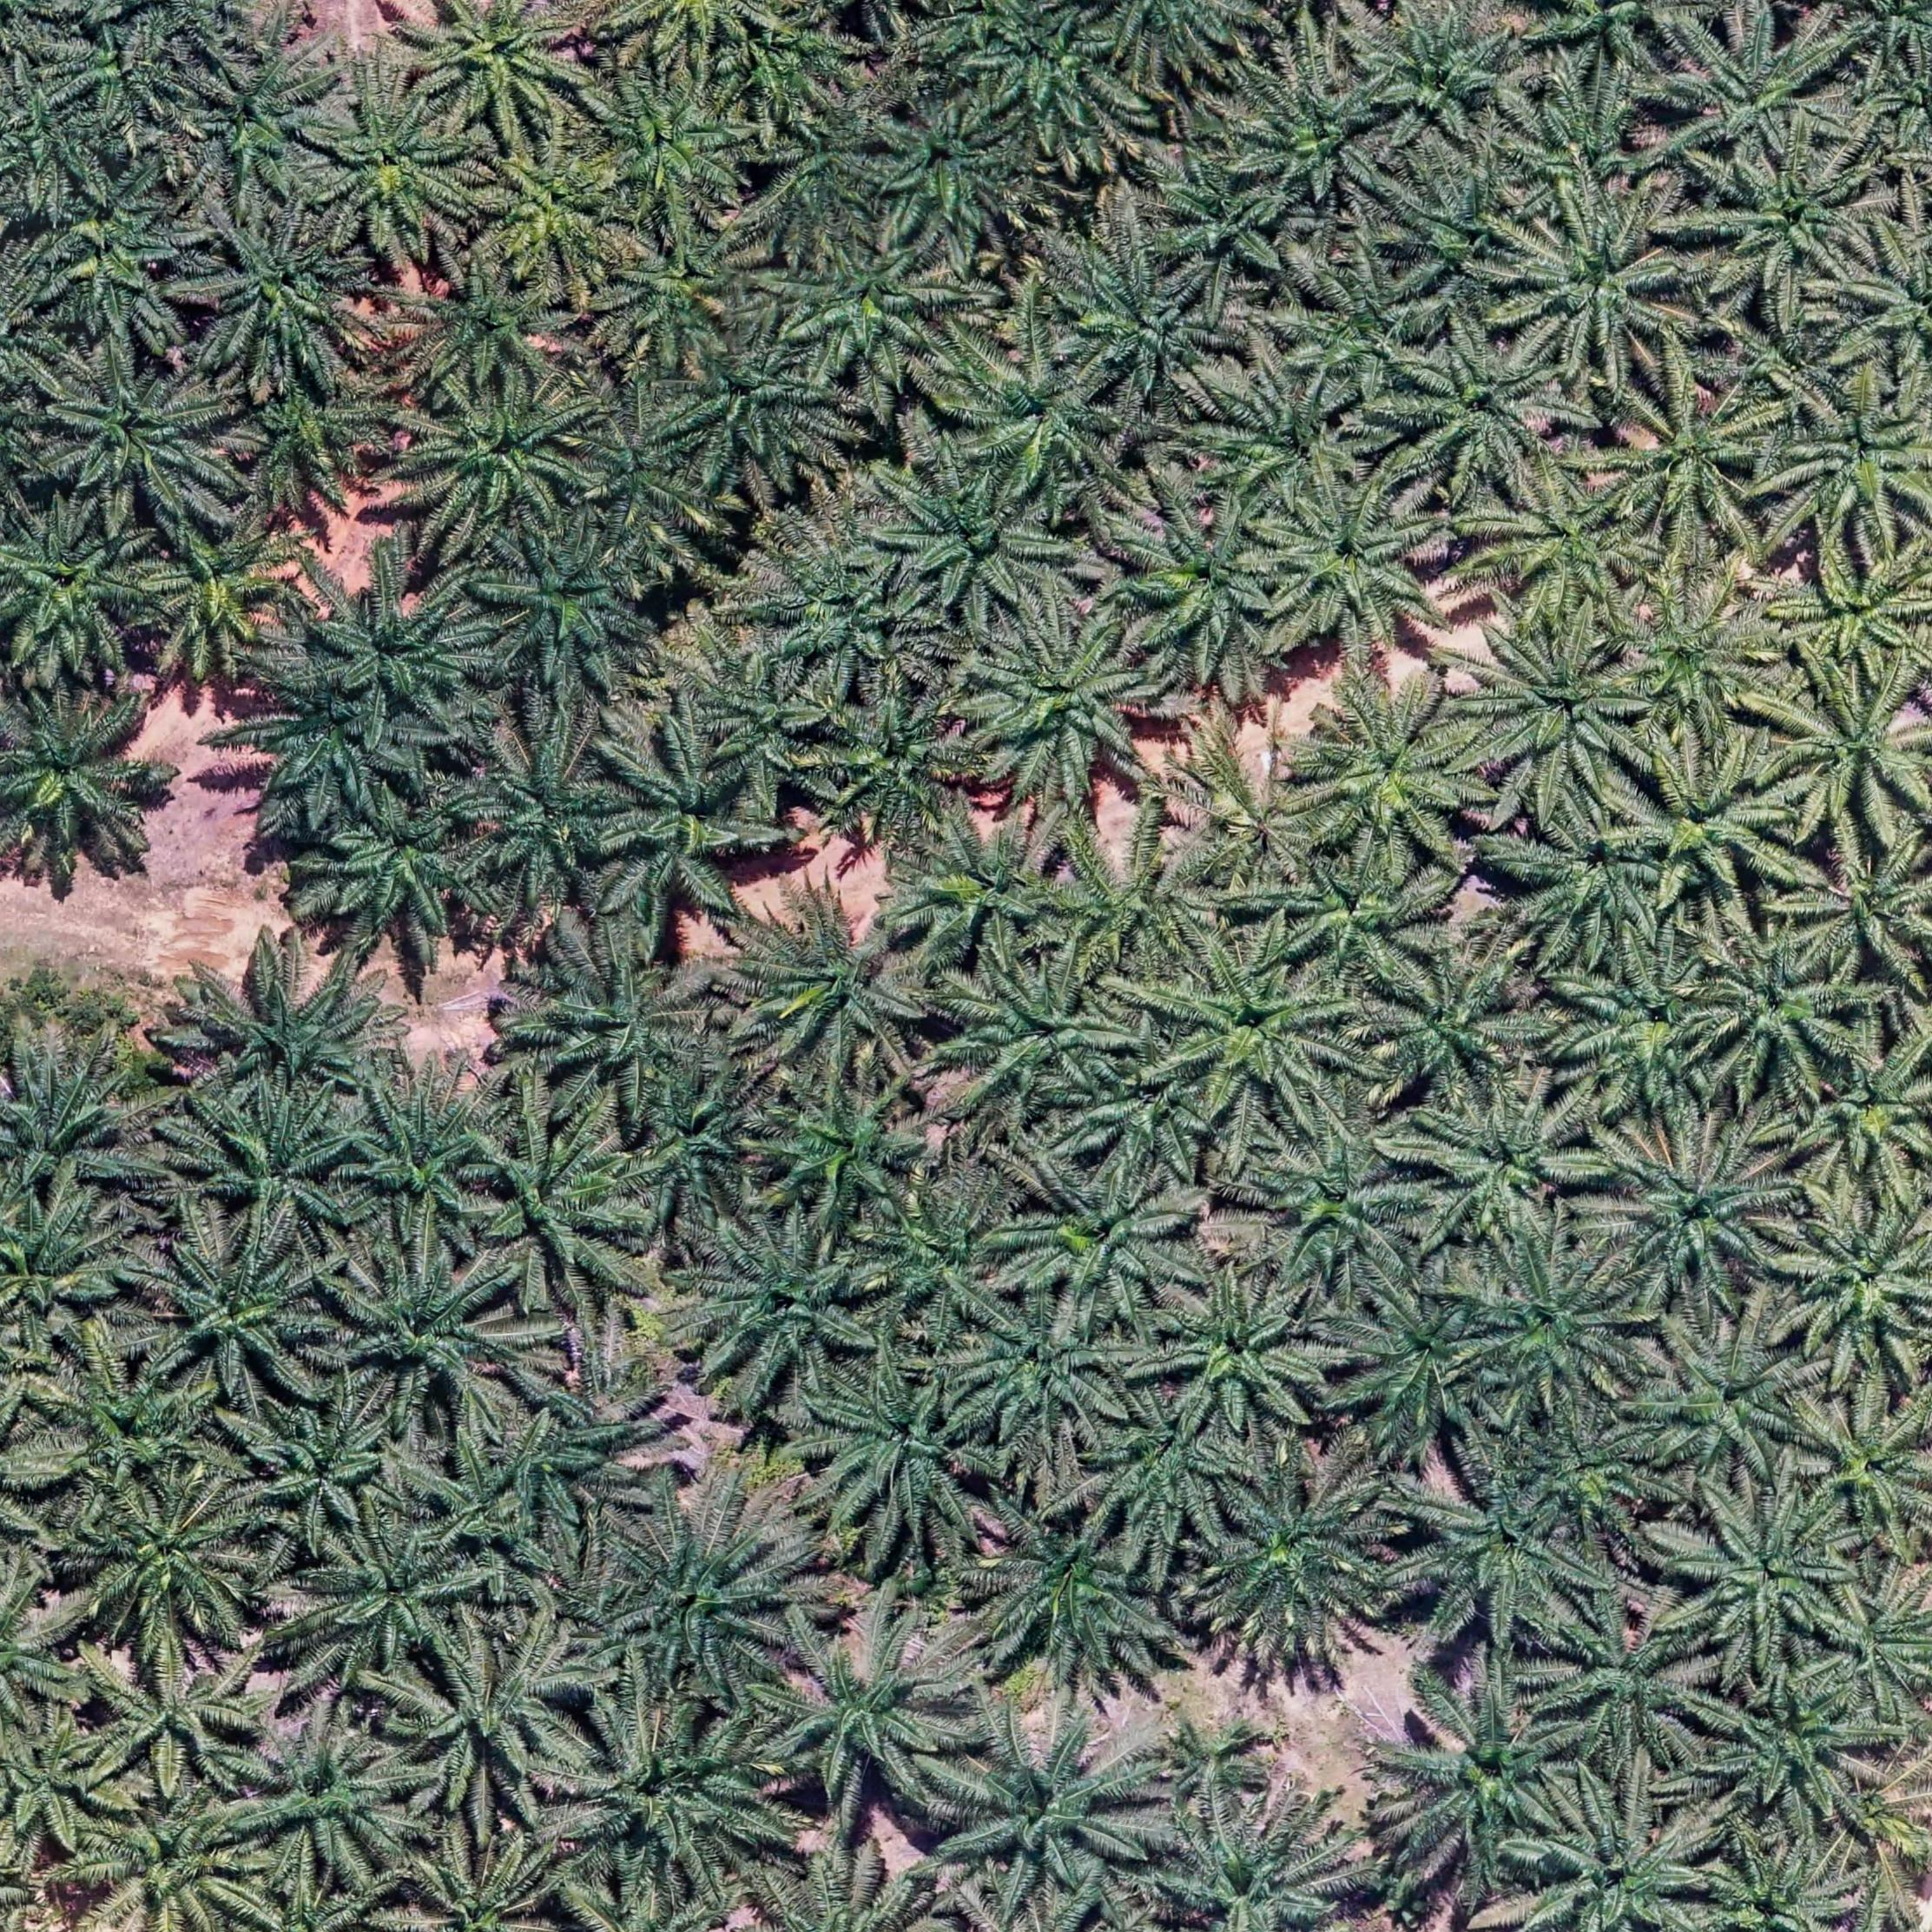palmtree: (1191, 1458, 1405, 1674), (938, 1700, 1161, 1902), (722, 876, 939, 1079), (598, 1493, 812, 1698), (550, 1700, 778, 1890), (1375, 1670, 1583, 1874), (763, 1605, 977, 1803), (961, 609, 1168, 803), (386, 1622, 596, 1813), (126, 1212, 331, 1401), (318, 1231, 525, 1419), (1594, 1113, 1796, 1302), (184, 945, 400, 1118), (1394, 1465, 1599, 1647), (1500, 195, 1697, 380), (467, 1116, 660, 1304), (1258, 469, 1454, 653), (1479, 814, 1679, 994), (69, 1476, 272, 1651), (970, 1497, 1166, 1677), (455, 1401, 651, 1582), (690, 1219, 901, 1387), (189, 203, 382, 386), (1159, 945, 1359, 1120), (1249, 1106, 1437, 1290), (1299, 671, 1486, 855), (398, 370, 600, 540), (453, 718, 637, 901), (228, 1709, 419, 1884), (525, 955, 734, 1115), (1152, 1267, 1339, 1444), (1670, 1488, 1863, 1660), (1594, 373, 1785, 545), (85, 1642, 276, 1813), (37, 347, 230, 517), (1467, 609, 1651, 786), (807, 1361, 994, 1534), (1408, 1081, 1599, 1251), (1111, 494, 1293, 669), (876, 460, 1065, 628), (1691, 915, 1870, 1092), (338, 1072, 515, 1251), (1134, 1796, 1364, 1932), (127, 495, 304, 672), (295, 1514, 487, 1677), (943, 955, 1136, 1116), (474, 524, 651, 699), (1614, 740, 1796, 909), (391, 246, 584, 405), (1468, 1247, 1647, 1415), (1325, 1286, 1504, 1454), (1394, 324, 1573, 492), (602, 212, 787, 373), (1500, 67, 1677, 235), (1629, 1316, 1810, 1481), (1016, 1159, 1196, 1323), (754, 1072, 939, 1231), (1660, 9, 1845, 168), (228, 671, 414, 830), (168, 34, 341, 203), (1778, 1187, 1932, 1378), (290, 561, 483, 713), (1704, 1665, 1886, 1826), (64, 1790, 271, 1932), (310, 76, 483, 244), (1056, 241, 1230, 407), (0, 683, 154, 869), (865, 90, 1035, 258), (1697, 145, 1879, 301), (28, 175, 200, 340), (957, 1292, 1136, 1449), (0, 494, 156, 672), (1366, 948, 1546, 1102), (0, 1033, 163, 1203), (1612, 579, 1785, 736), (961, 334, 1132, 492), (1767, 665, 1932, 828), (1775, 373, 1932, 543), (1161, 770, 1334, 922), (1541, 1787, 1721, 1932), (782, 225, 952, 379), (1283, 257, 1465, 400), (19, 5, 205, 143), (409, 0, 596, 136), (467, 131, 628, 285), (591, 74, 754, 226), (1086, 1392, 1251, 1543), (1346, 5, 1516, 150), (237, 1394, 402, 1543), (1233, 87, 1419, 218), (1490, 465, 1652, 614), (1139, 154, 1315, 292), (701, 676, 867, 821), (738, 548, 920, 678), (906, 821, 1088, 941), (1780, 536, 1932, 678), (1214, 363, 1376, 490), (679, 356, 832, 490), (1792, 826, 1932, 971), (382, 1824, 570, 1932), (982, 11, 1125, 147), (1798, 1033, 1932, 1175), (566, 423, 724, 541), (1798, 1396, 1932, 1534), (1546, 1629, 1707, 1744), (0, 1207, 115, 1362), (766, 90, 902, 219), (338, 800, 472, 925), (1813, 1571, 1932, 1711)
